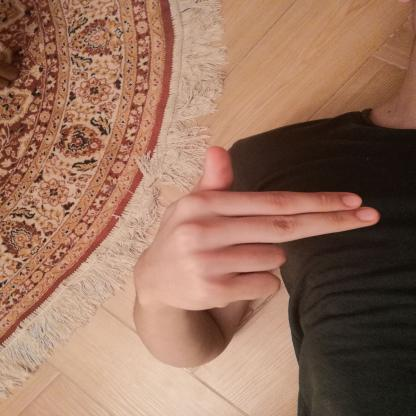GHAYN: (122, 130, 395, 318)
